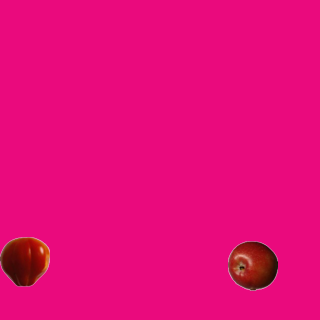Apple Braeburn: (227, 240, 277, 290)
Tomato 1: (0, 236, 49, 286)
